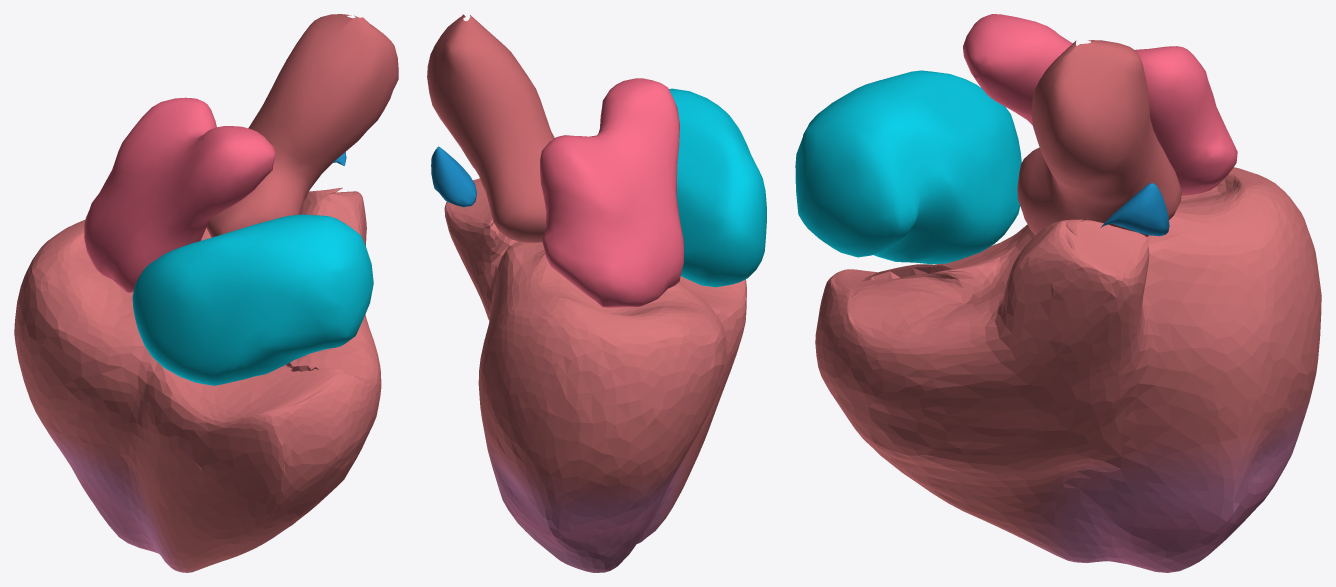
The model's file is frame_15.glb.
3 renders of one model, left to right at view 1: azimuth 30°, elevation 25°; view 2: azimuth 150°, elevation 25°; view 3: azimuth 270°, elevation 25°, orthographic. The views are drawn at different scales.
Visible parts, largest first — view 1: Renderer Node; view 2: Renderer Node; view 3: Renderer Node.
Boxes of the visible parts, x1,y1,x2,y2 form: Renderer Node: (14, 14, 398, 572); Renderer Node: (427, 14, 766, 572); Renderer Node: (795, 14, 1321, 572).
Bounding box in the file's own units: 102 × 154 × 118.
